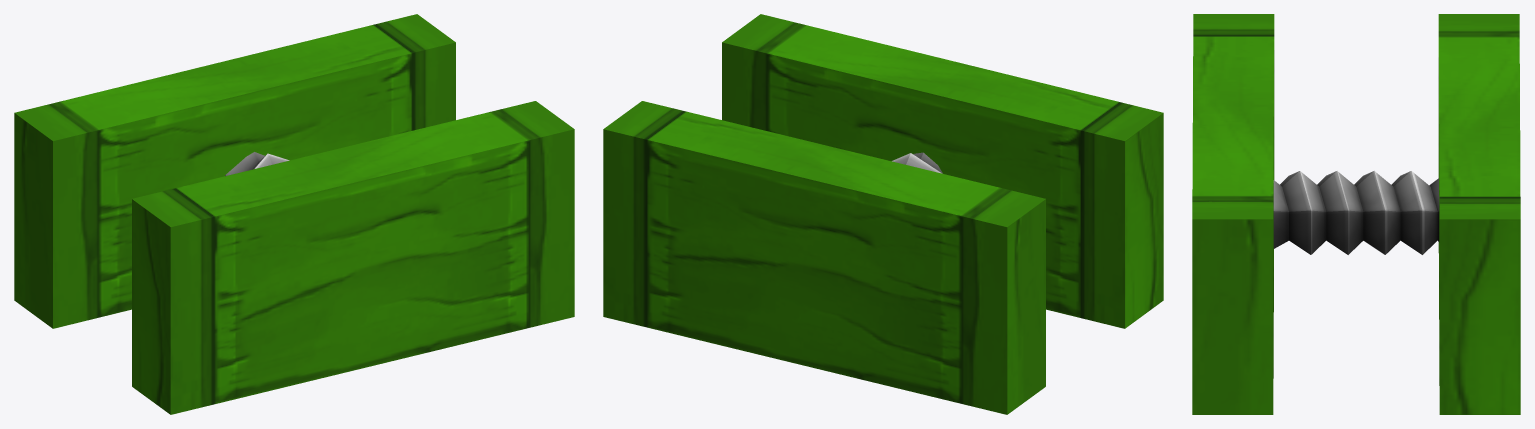
The model's file is fence_green_01.fbx.
3 renders of one model, left to right at view 1: azimuth 30°, elevation 25°; view 2: azimuth 150°, elevation 25°; view 3: azimuth 270°, elevation 25°, orthographic. The views are drawn at different scales.
Visible parts, largest first — view 1: front_wall_8, back_wall_3, spring_9; view 2: back_wall_3, front_wall_8, spring_9; view 3: back_wall_3, front_wall_8, spring_9.
Boxes of the visible parts, x1,y1,x2,y2 form: front_wall_8: (132, 101, 574, 414); back_wall_3: (14, 14, 455, 328); spring_9: (225, 152, 289, 176); back_wall_3: (603, 101, 1045, 414); front_wall_8: (722, 14, 1163, 328); spring_9: (892, 152, 942, 173); back_wall_3: (1438, 14, 1520, 414); front_wall_8: (1192, 14, 1274, 414); spring_9: (1273, 171, 1439, 254).
Size of the model in its own units: 90 by 40 by 60.81.
